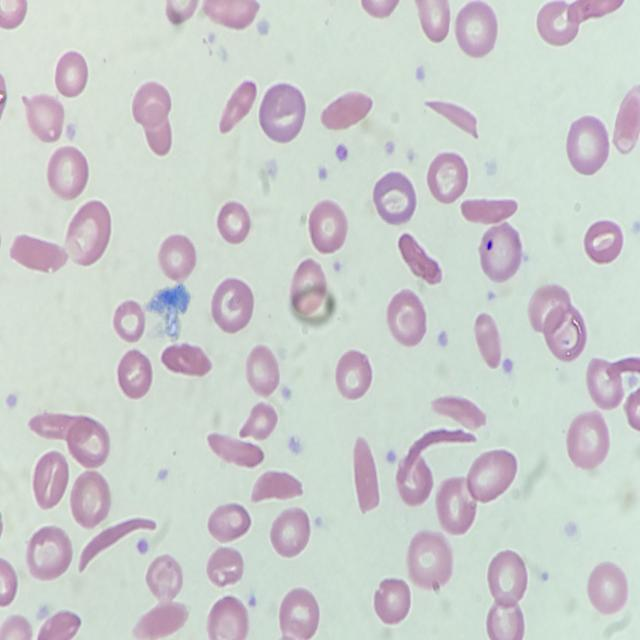sickle cell: (75, 511, 161, 579), (386, 414, 478, 474), (389, 228, 449, 288), (417, 94, 492, 141)
